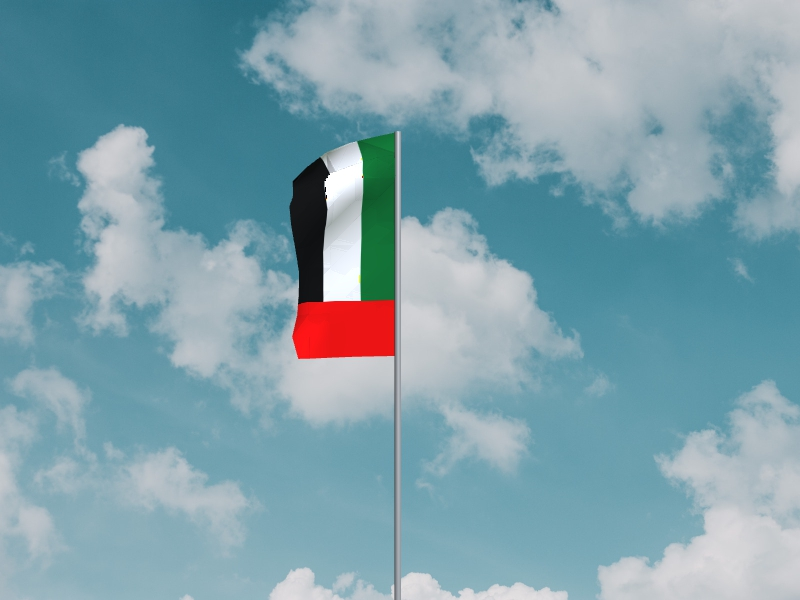ae: (288, 134, 395, 361)
